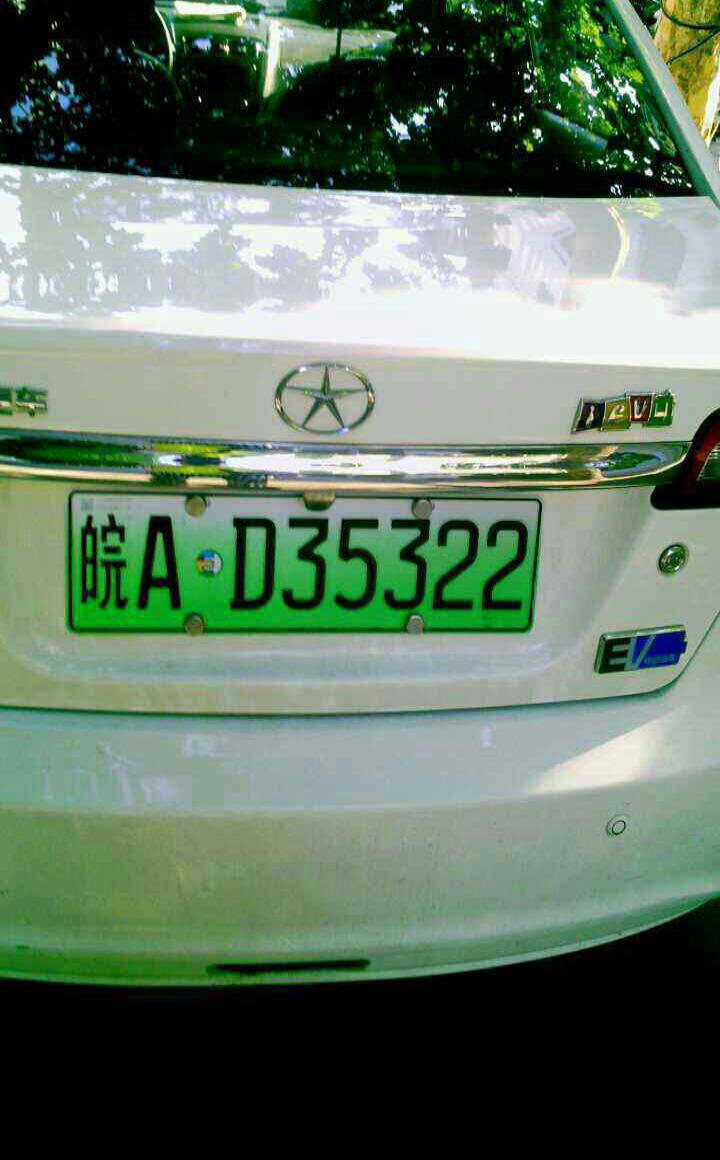car_id: (58, 484, 546, 632)
